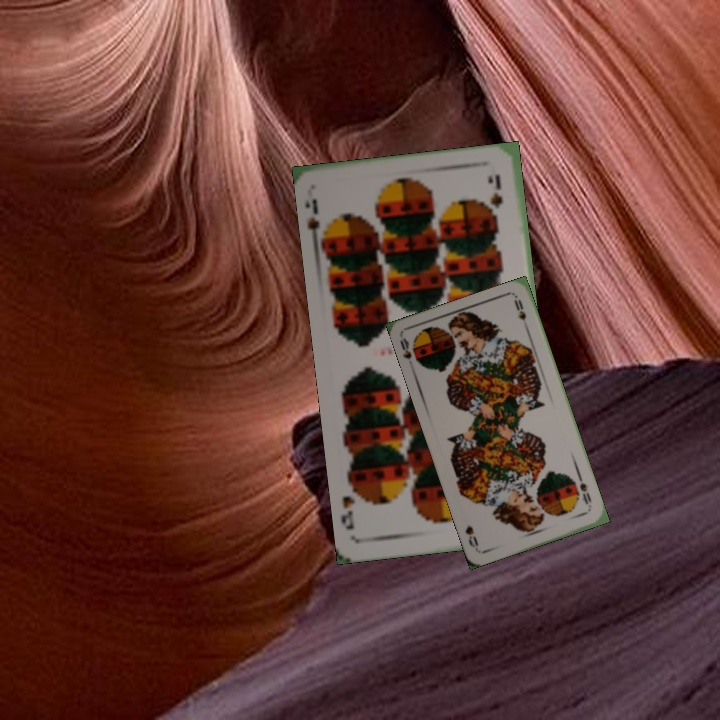S9: (305, 194, 334, 249)
SO: (396, 334, 424, 370), (574, 472, 594, 512)
